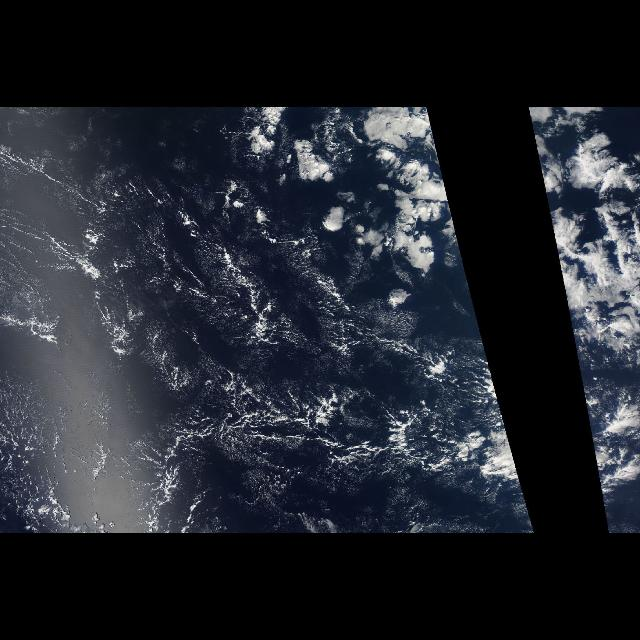Flower: (234, 108, 468, 278), (528, 110, 628, 264)
Gravel: (202, 356, 414, 459)
Sugar: (0, 142, 376, 524)
